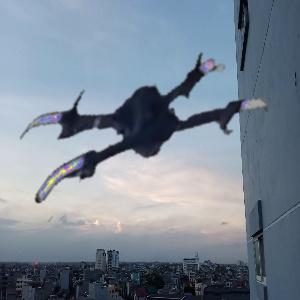drone: (24, 26, 270, 272)
